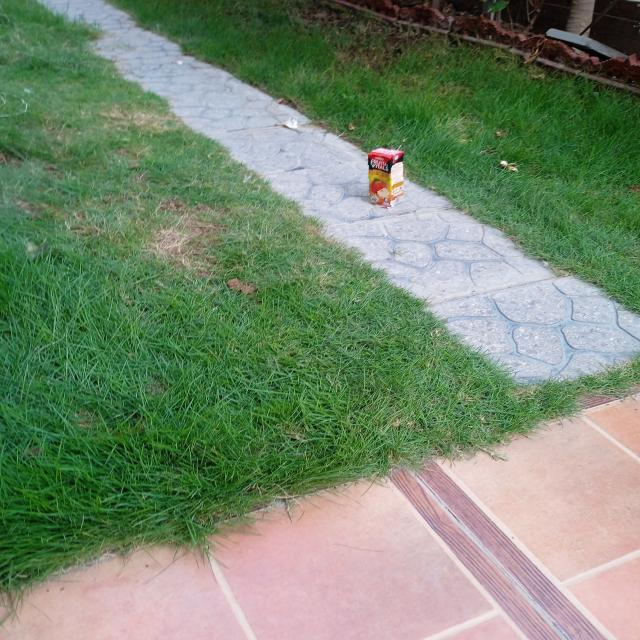Plastic: (362, 145, 409, 208)
